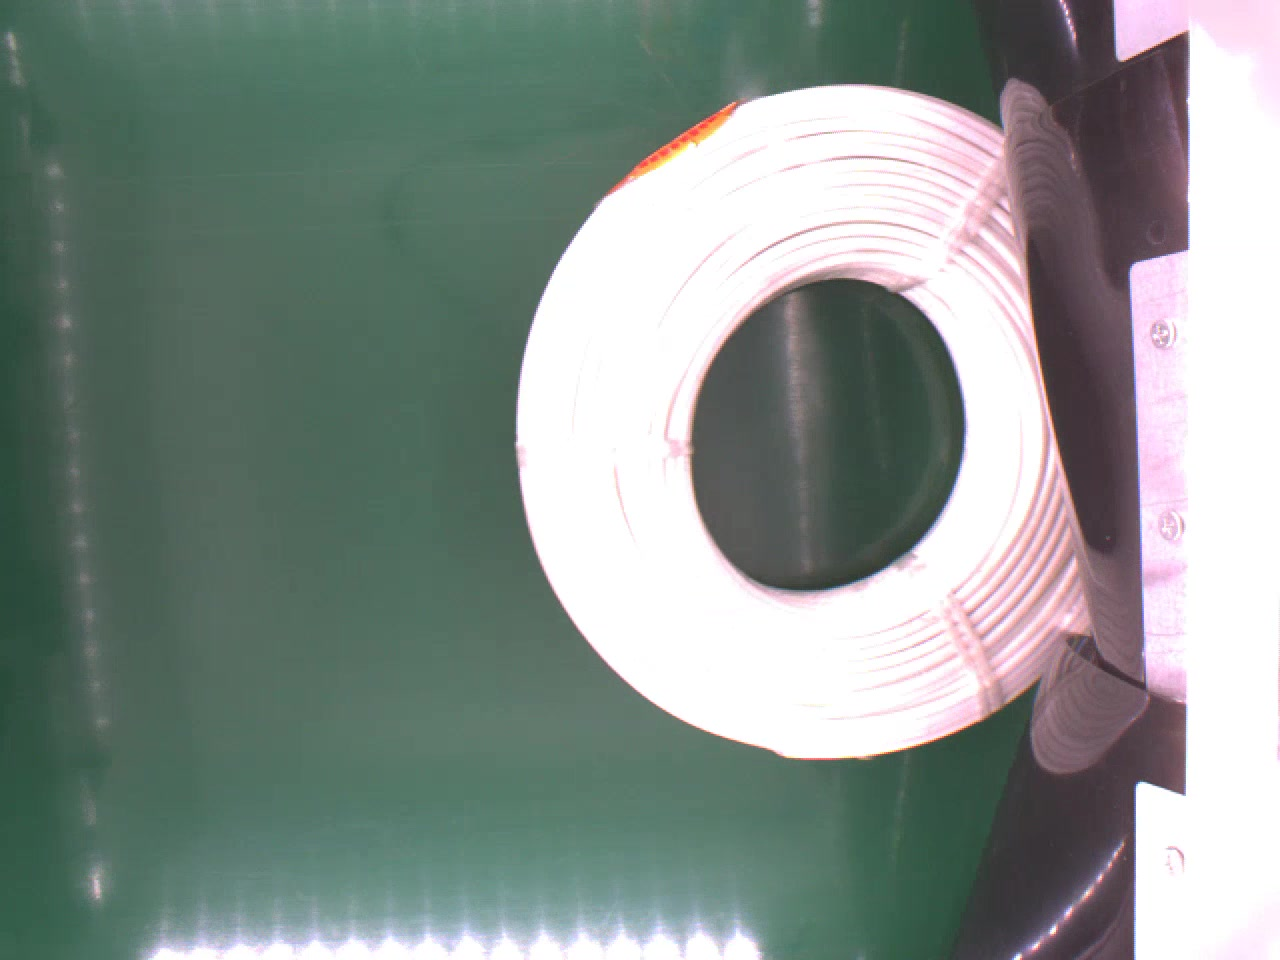white: (510, 82, 1104, 770)
